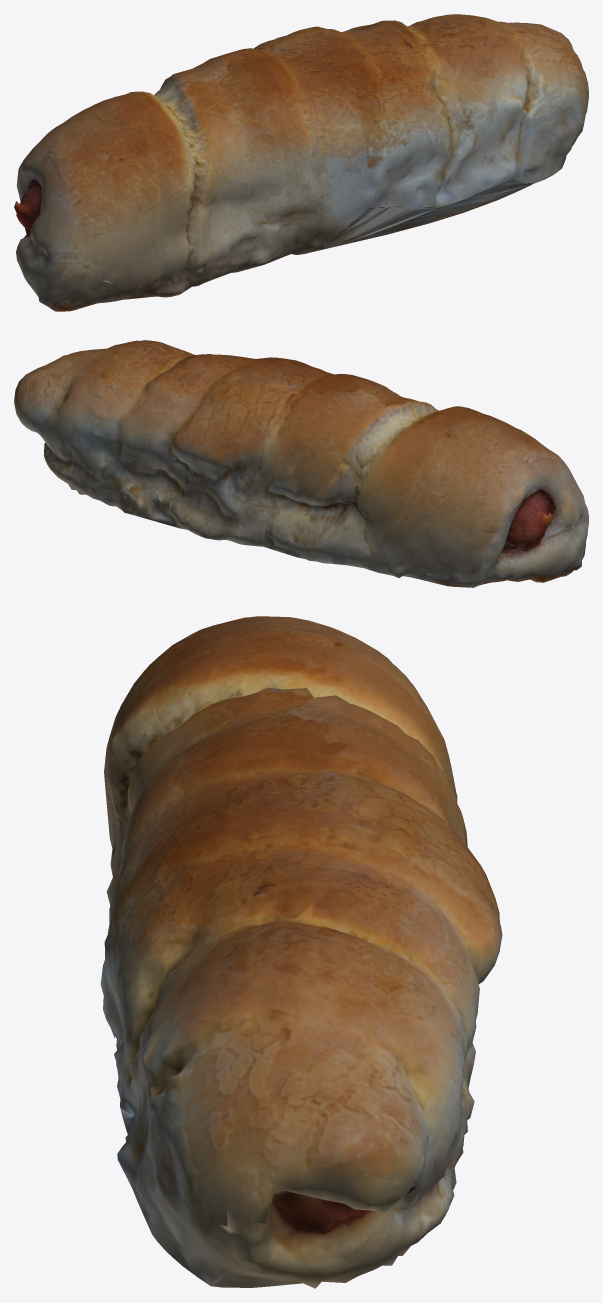
The model's file is hotdog.dae.
The picture shows the model from 3 angles, top to bottom: view 1: azimuth 30°, elevation 25°; view 2: azimuth 150°, elevation 25°; view 3: azimuth 270°, elevation 25°; orthographic projection. The views are drawn at different scales.
Parts seen in each view (by area): view 1: HottoDoggu.001; view 2: HottoDoggu.001; view 3: HottoDoggu.001.
Part boxes in pixels (<box>): HottoDoggu.001: <box>14,14,588,311</box>; HottoDoggu.001: <box>14,340,588,587</box>; HottoDoggu.001: <box>100,616,502,1288</box>.
Size of the model in its own units: 1.95 by 0.6431 by 0.5676.
1 material, 1 textured.
